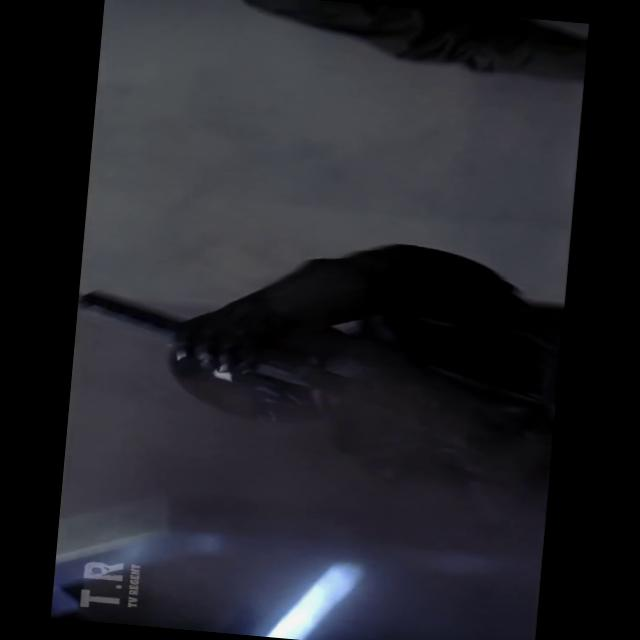long weapon: (63, 248, 566, 492)
